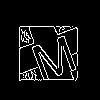M: (25, 25, 80, 83)
